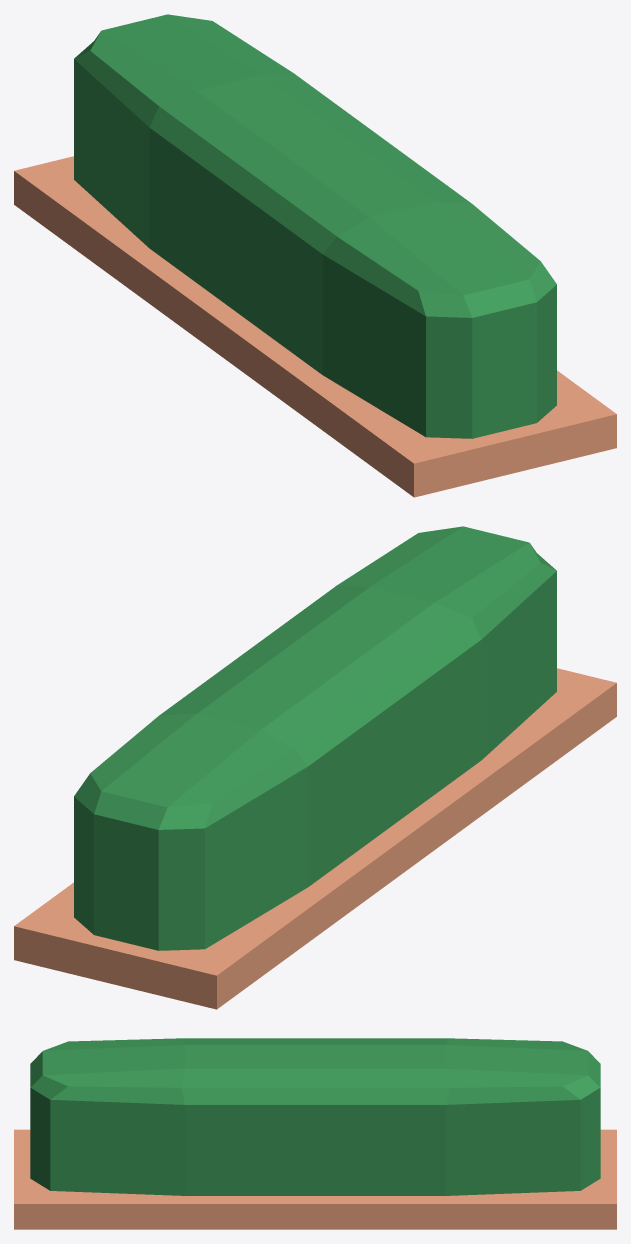
The model's file is Hedge.fbx.
3 views of the same model, one above another, from view 1: azimuth 30°, elevation 25°; view 2: azimuth 150°, elevation 25°; view 3: azimuth 270°, elevation 25° (orthographic). The views are drawn at different scales.
Visible parts, largest first — view 1: Cube; view 2: Cube; view 3: Cube.
Part boxes in pixels (<box>): Cube: <box>14,14,616,497</box>; Cube: <box>14,526,616,1009</box>; Cube: <box>14,1038,616,1229</box>.
Bounding box in the file's own units: 323 × 274 × 1103.
